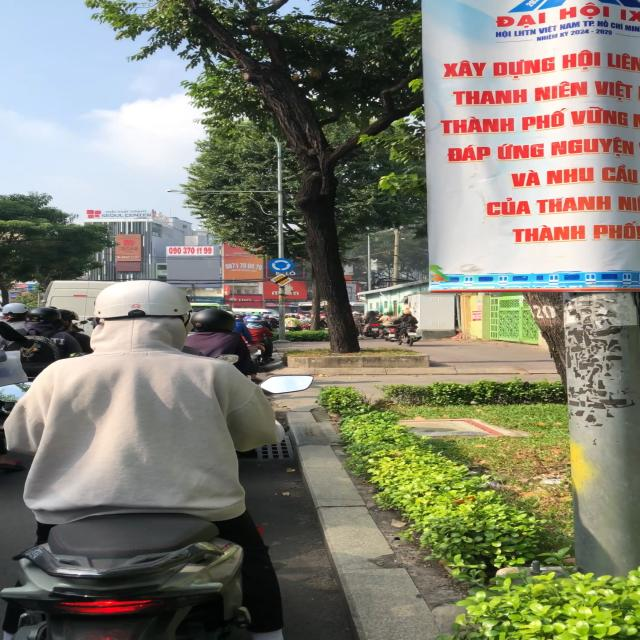Bien bao noi giao nhau chay theo vong xuyen: (268, 257, 294, 273)
